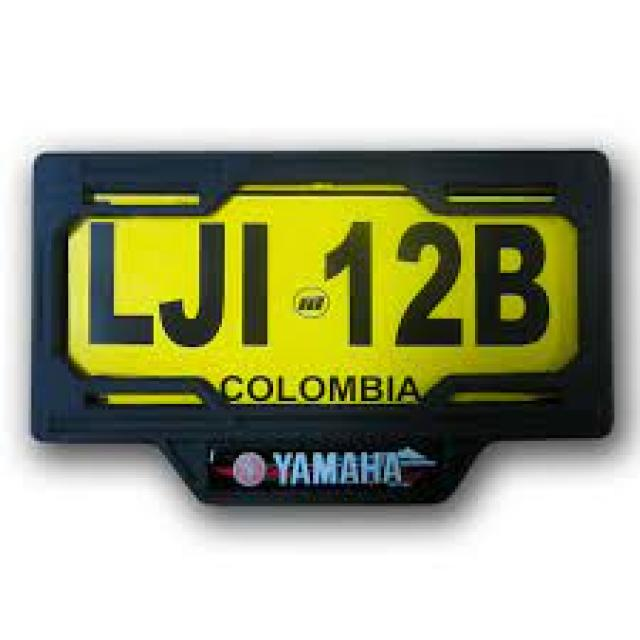placa_moto: (26, 149, 612, 444)
